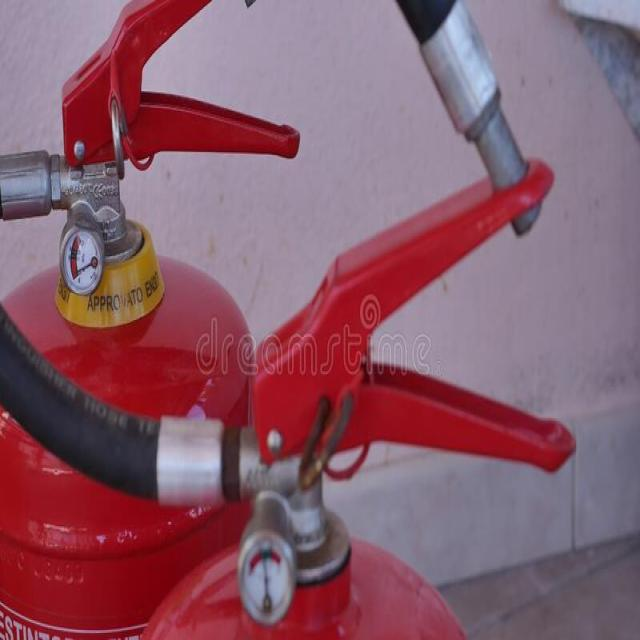fire_extinguisher: (132, 148, 580, 638), (0, 0, 314, 639)
